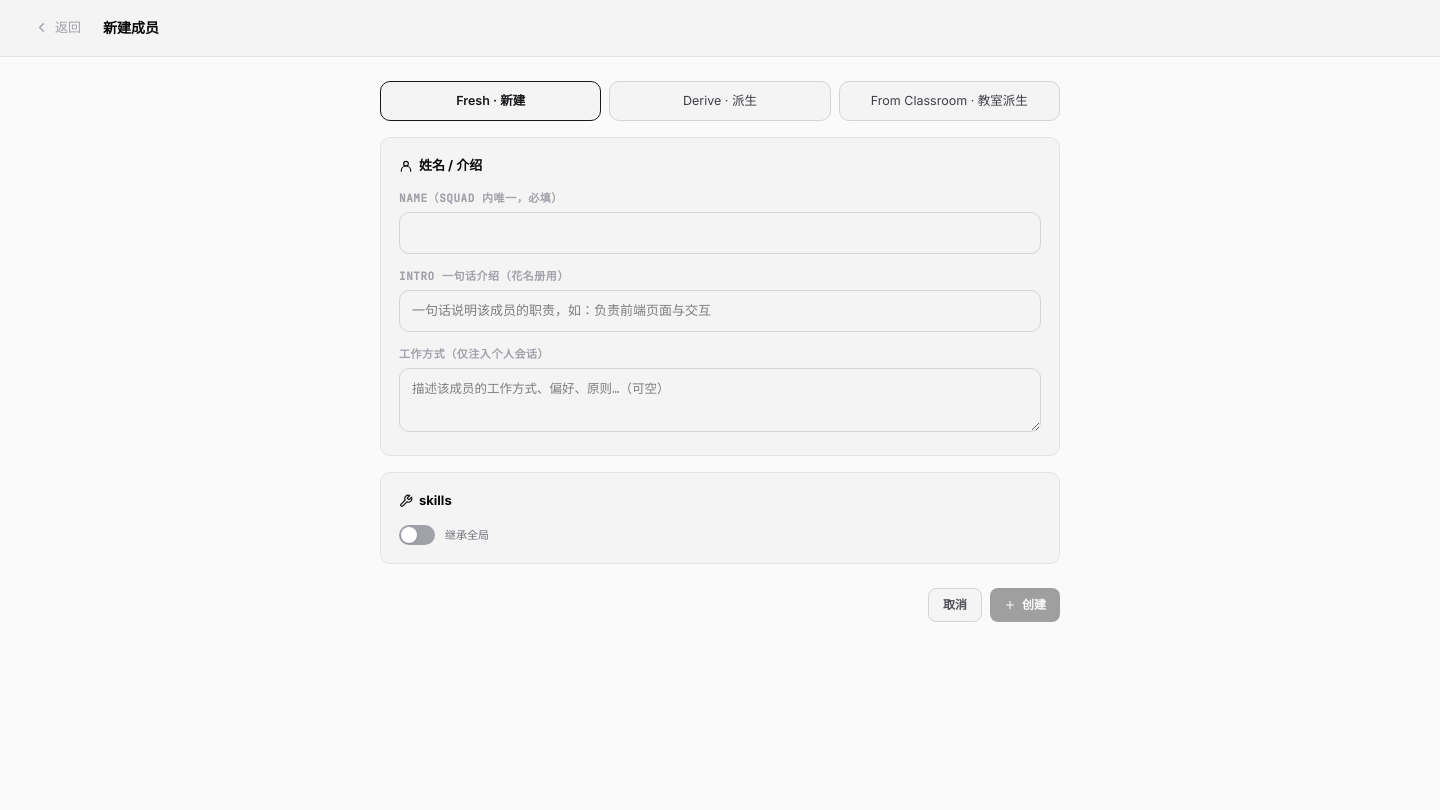
Test case: MemberCreate（v0.0.169 主区创建页） › derive 父列表为空（仅 leader）→ 空提示
Click the button "Derive · 派生": point(720, 101) [609,80,831,121]
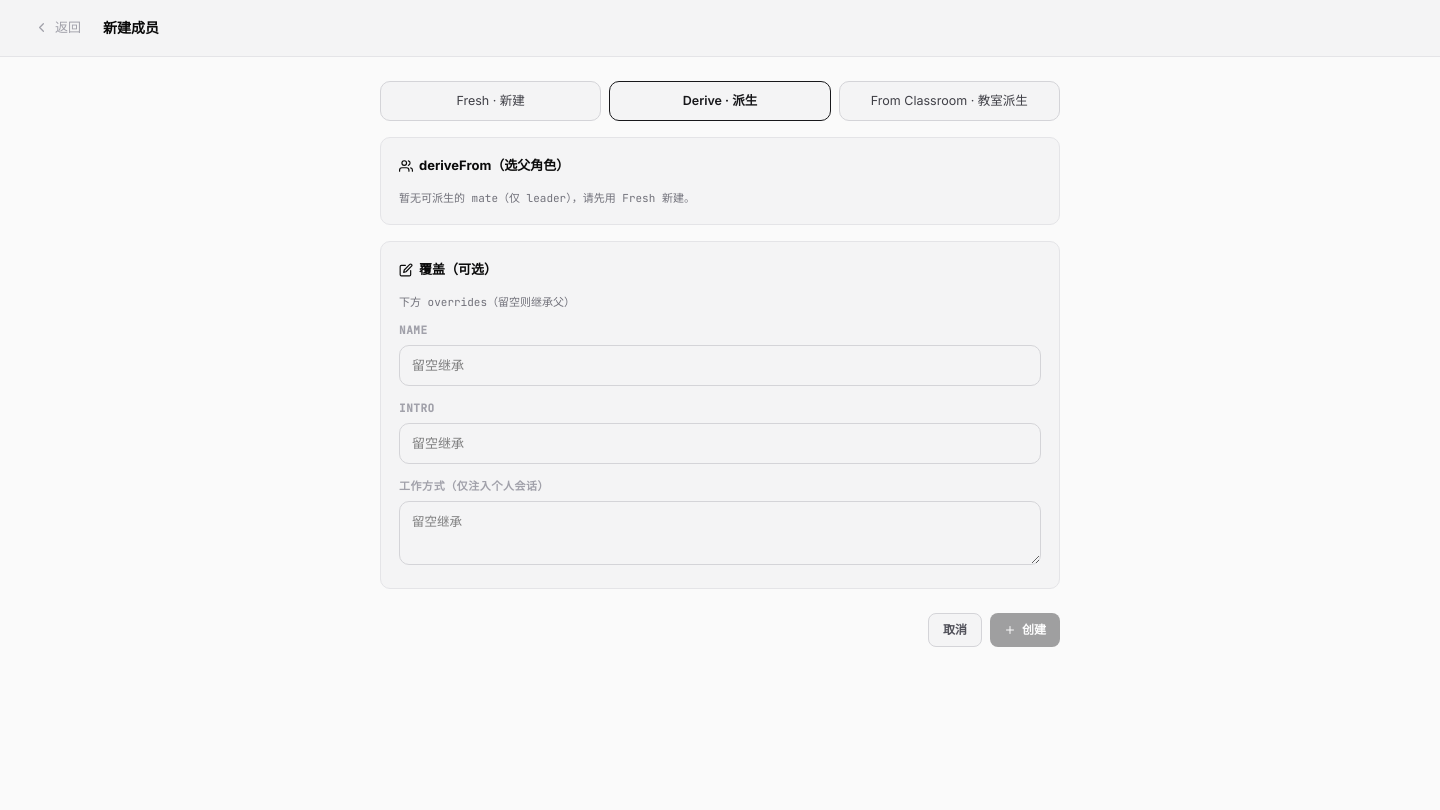
Now the text "暂无可派生的 mate（仅 leader），请先用 Fresh 新建。" is shown, box [399,191,695,205]
